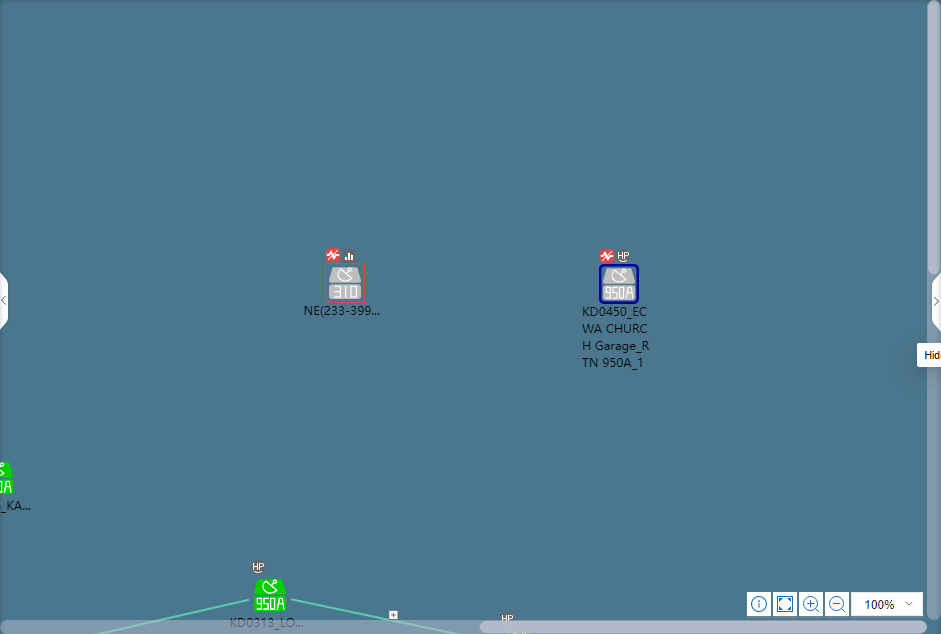Link_Blue: (291, 596, 387, 624), (156, 596, 246, 624)
RTN_Gray: (326, 267, 366, 299), (603, 267, 635, 307)
RTN_Green: (256, 579, 290, 611), (3, 461, 12, 493)
